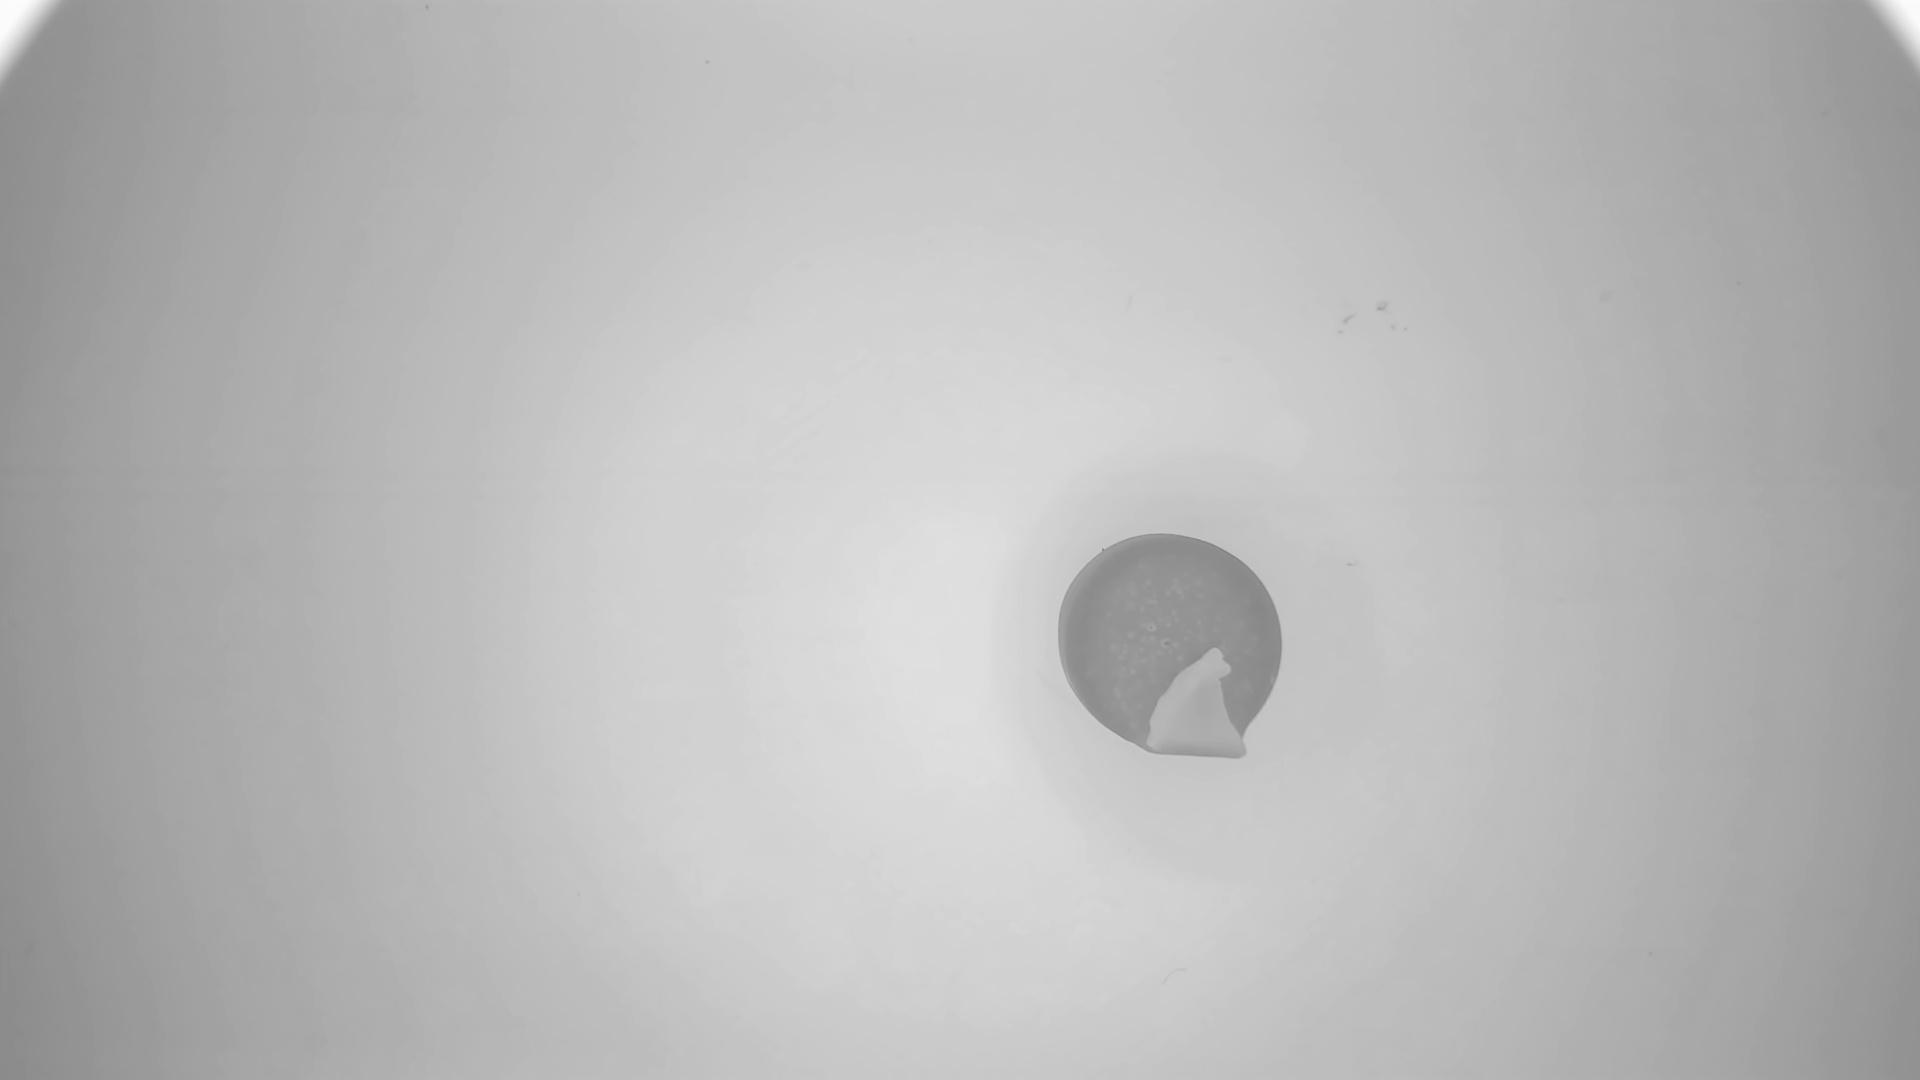abnormal: (1054, 530, 1284, 764)
